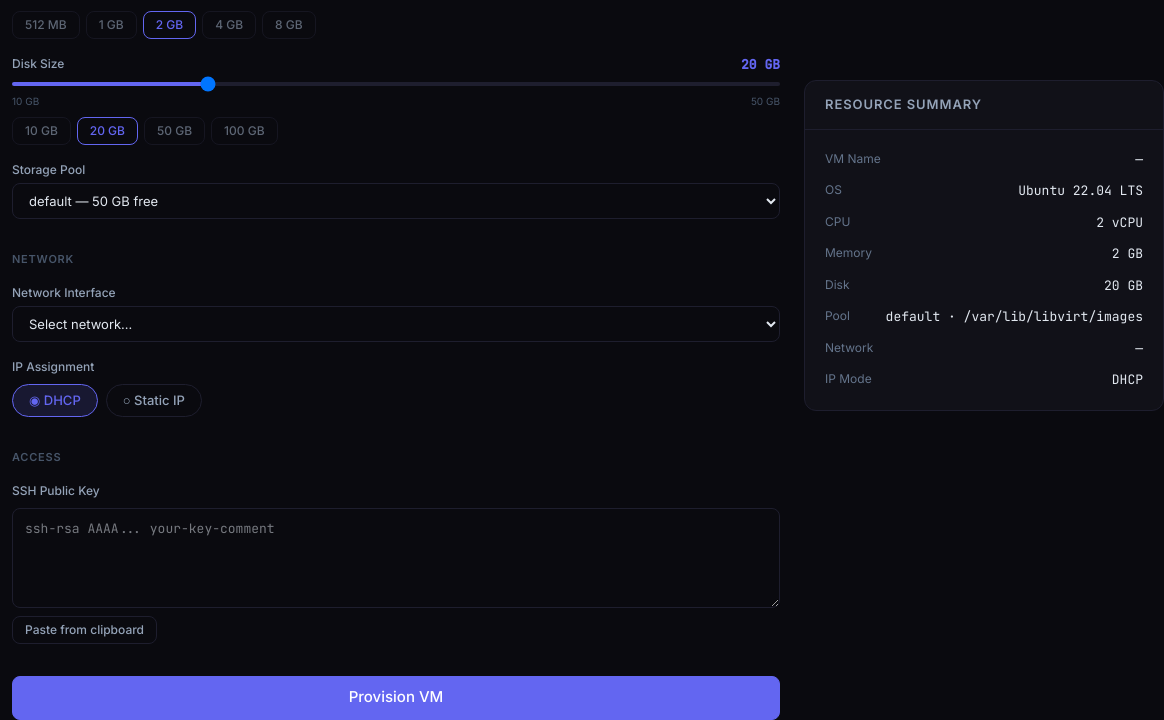
Test: ProvisionForm — static IP validation › switching to Static and leaving IP empty blocks submit with errors banner
(page scrolled)
Click the button "○ Static IP" at {"x": 154, "y": 400}, box [106,384,202,417]
(page scrolled)
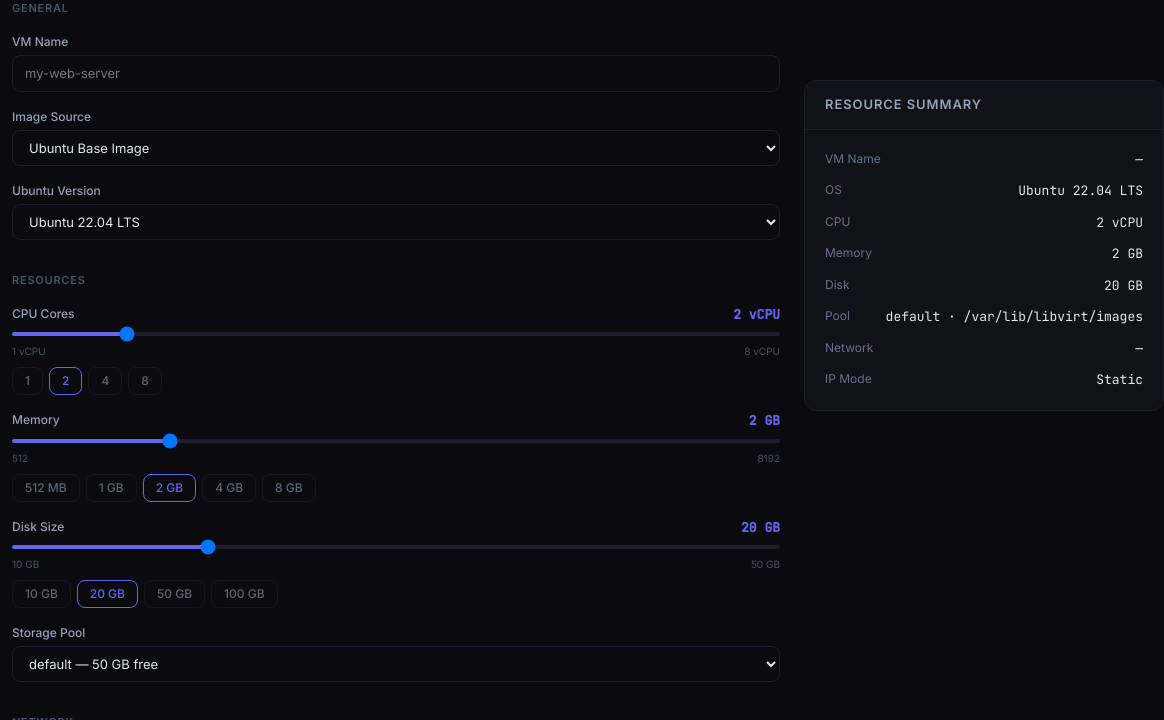
Type "my-test-vm" into the field labelled "VM Name" at {"x": 396, "y": 73}, box [12,54,780,92]
(page scrolled)
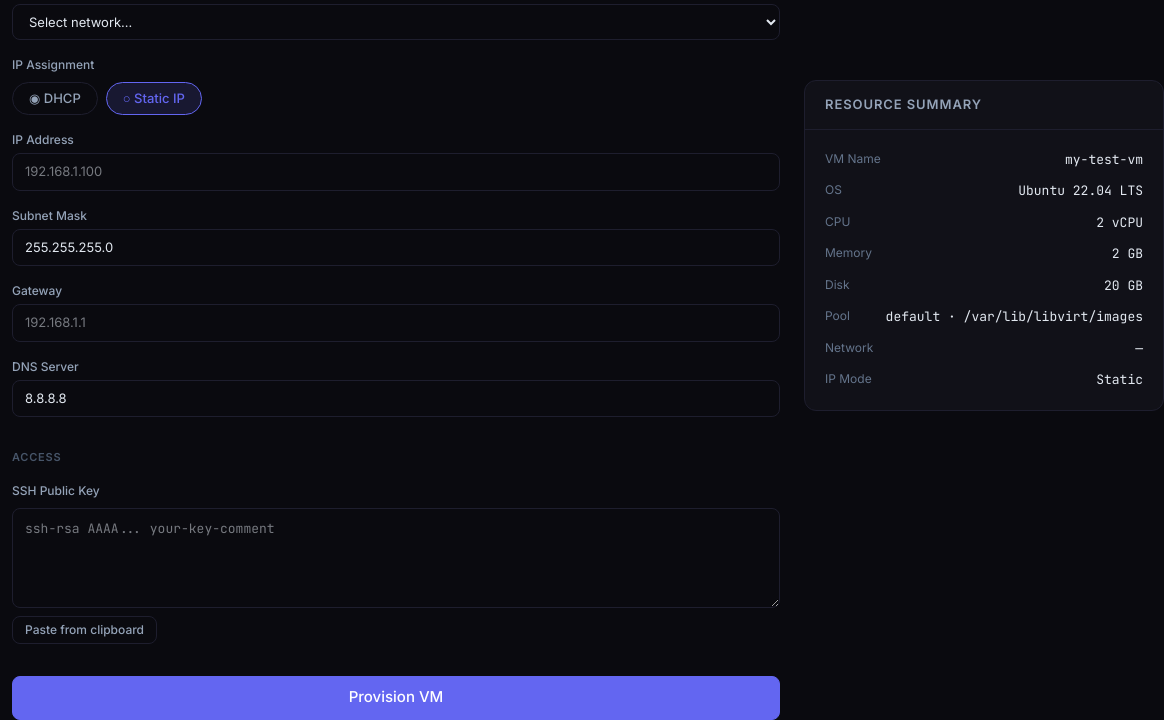
Type "ssh-rsa AAAAB3NzaC1yc2EAAA test@host" into the text box with placeholder "ssh-rsa AAAA... your-key-comment" at {"x": 396, "y": 558}, box [12,508,780,608]
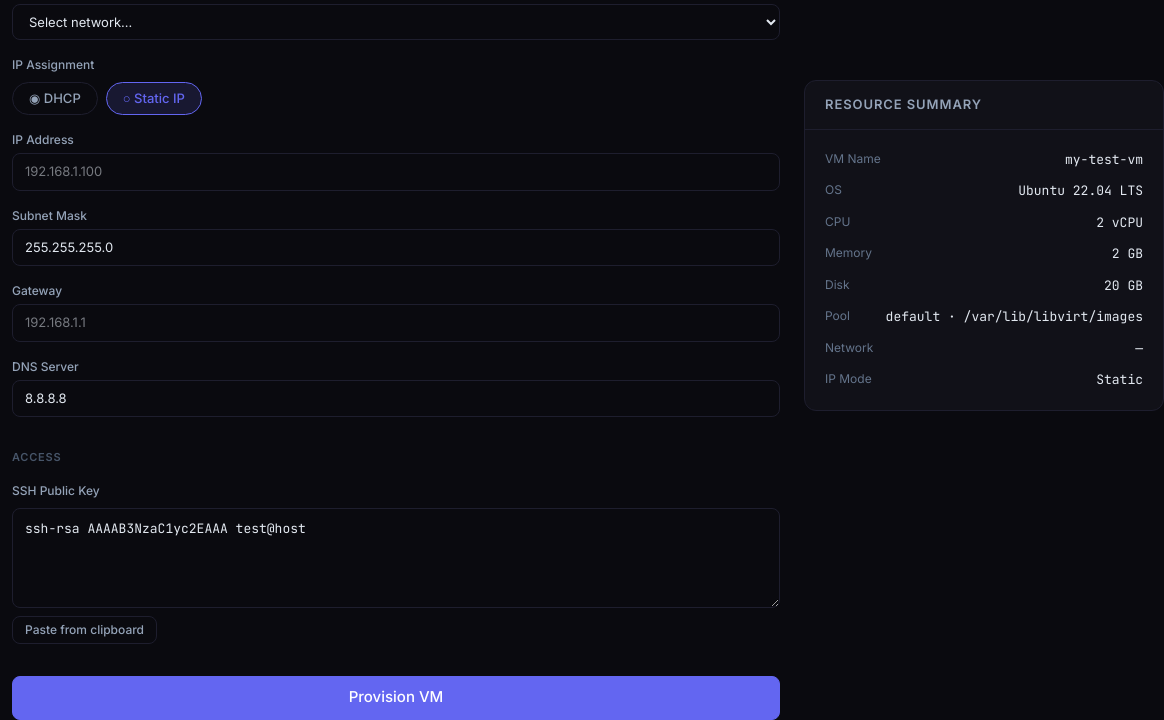
Click the button "Provision VM" at {"x": 396, "y": 698}, box [12,676,780,719]
(page scrolled)
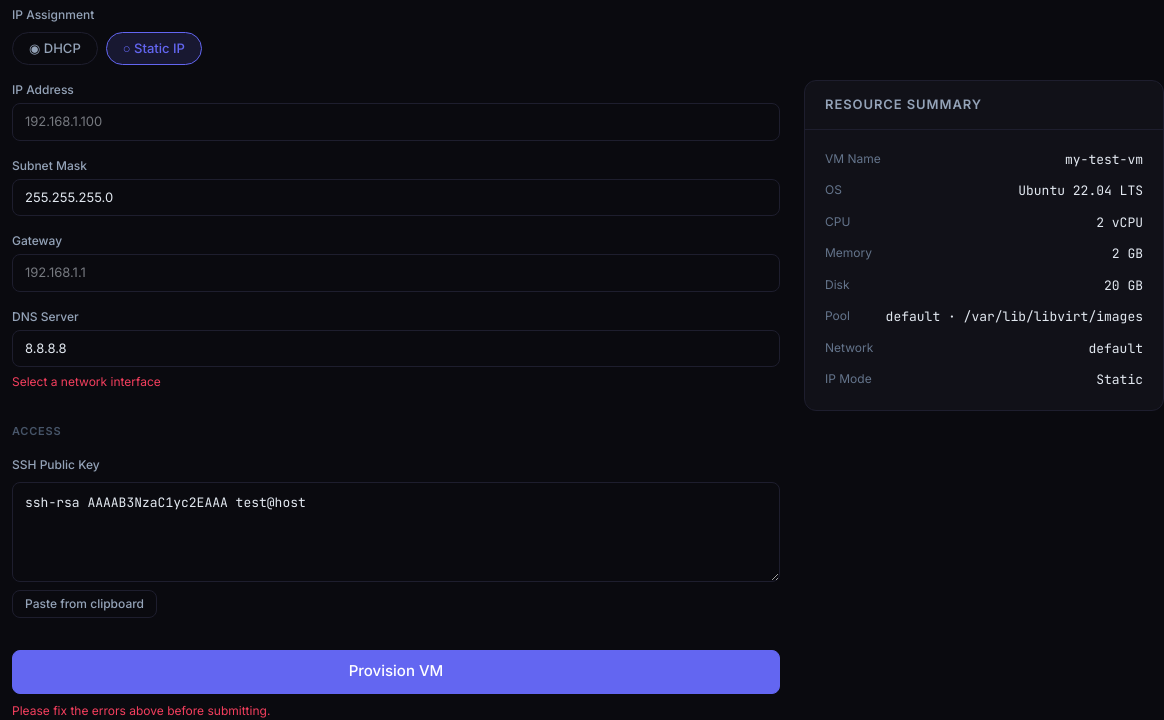
Check: the text "Please fix the errors above before submitting." is shown, box [12,702,270,718]
